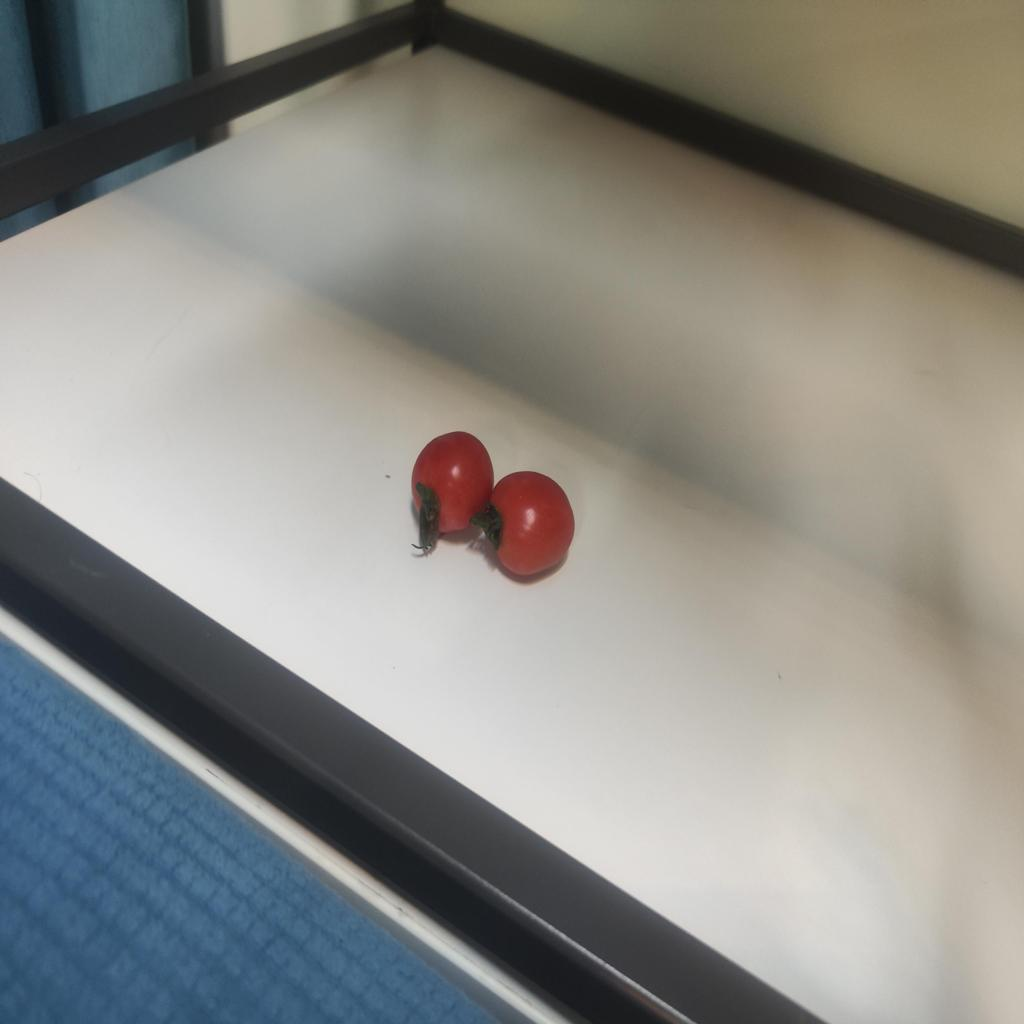tomato: (481, 474, 581, 569), (403, 425, 490, 530)
